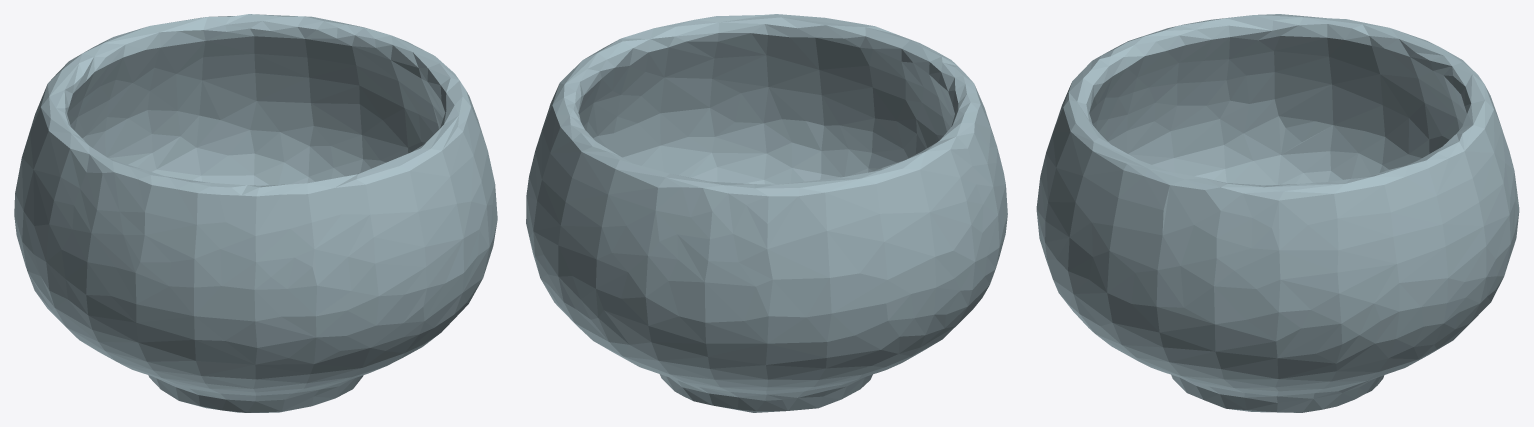
The model's file is cup_ori.glb.
3 renders of one model, left to right at view 1: azimuth 30°, elevation 25°; view 2: azimuth 150°, elevation 25°; view 3: azimuth 270°, elevation 25°, orthographic.
Visible parts, largest first — view 1: piece_3.obj, piece_0.obj, piece_2.obj, piece_4.obj, piece_1.obj, piece_5.obj; view 2: piece_3.obj, piece_2.obj, piece_4.obj, piece_0.obj, piece_1.obj, piece_5.obj; view 3: piece_3.obj, piece_2.obj, piece_0.obj, piece_1.obj, piece_4.obj.
Part boxes in pixels (bbox=[...]): piece_3.obj: bbox=[137, 14, 497, 389]; piece_0.obj: bbox=[97, 164, 338, 391]; piece_2.obj: bbox=[14, 36, 406, 412]; piece_4.obj: bbox=[333, 160, 441, 354]; piece_1.obj: bbox=[45, 145, 126, 365]; piece_5.obj: bbox=[117, 30, 156, 168]; piece_3.obj: bbox=[526, 14, 818, 409]; piece_2.obj: bbox=[673, 101, 977, 412]; piece_4.obj: bbox=[793, 17, 897, 182]; piece_0.obj: bbox=[872, 32, 1007, 260]; piece_1.obj: bbox=[937, 117, 1001, 314]; piece_5.obj: bbox=[650, 176, 713, 383]; piece_3.obj: bbox=[1051, 94, 1519, 412]; piece_2.obj: bbox=[1171, 14, 1495, 391]; piece_0.obj: bbox=[1055, 19, 1221, 180]; piece_1.obj: bbox=[1205, 14, 1281, 184]; piece_4.obj: bbox=[1036, 92, 1092, 319].
Bounding box in the file's own units: 0.9997 × 0.6135 × 1.
